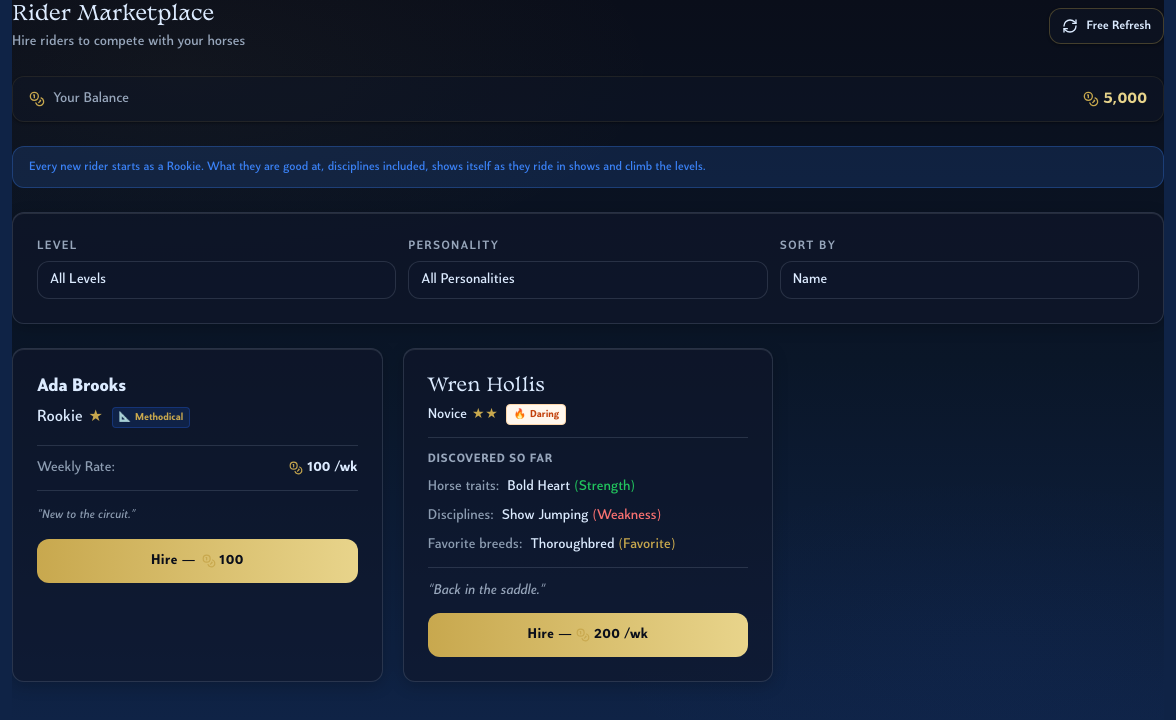
Test case: riders back for hire, in the rider hire list (Equoria-266h7, q284) › one click hires the rider by id, with no confirmation box, and the card leaves the list
This screenshot has width=1176, height=720.
Click the button with test id "returning-rider-41-hire". click: coordinates (588, 635)
box: [428,613,748,657]
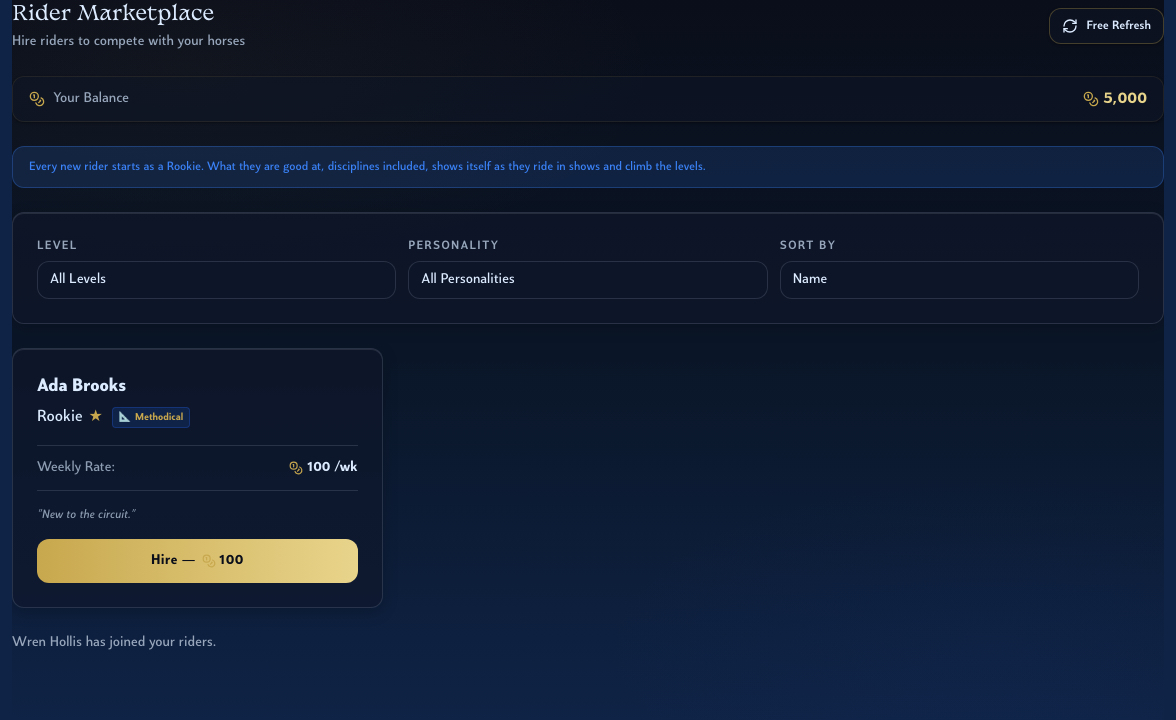
Expected: the text "Wren Hollis has joined your riders." is shown, [12,635,216,650]
Expected: the element with test id "returning-rider-41" is gone
